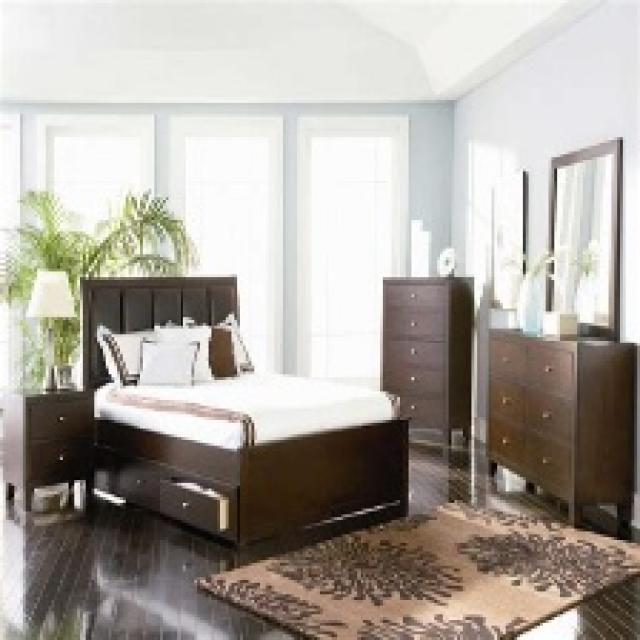Bed: (77, 271, 409, 566)
